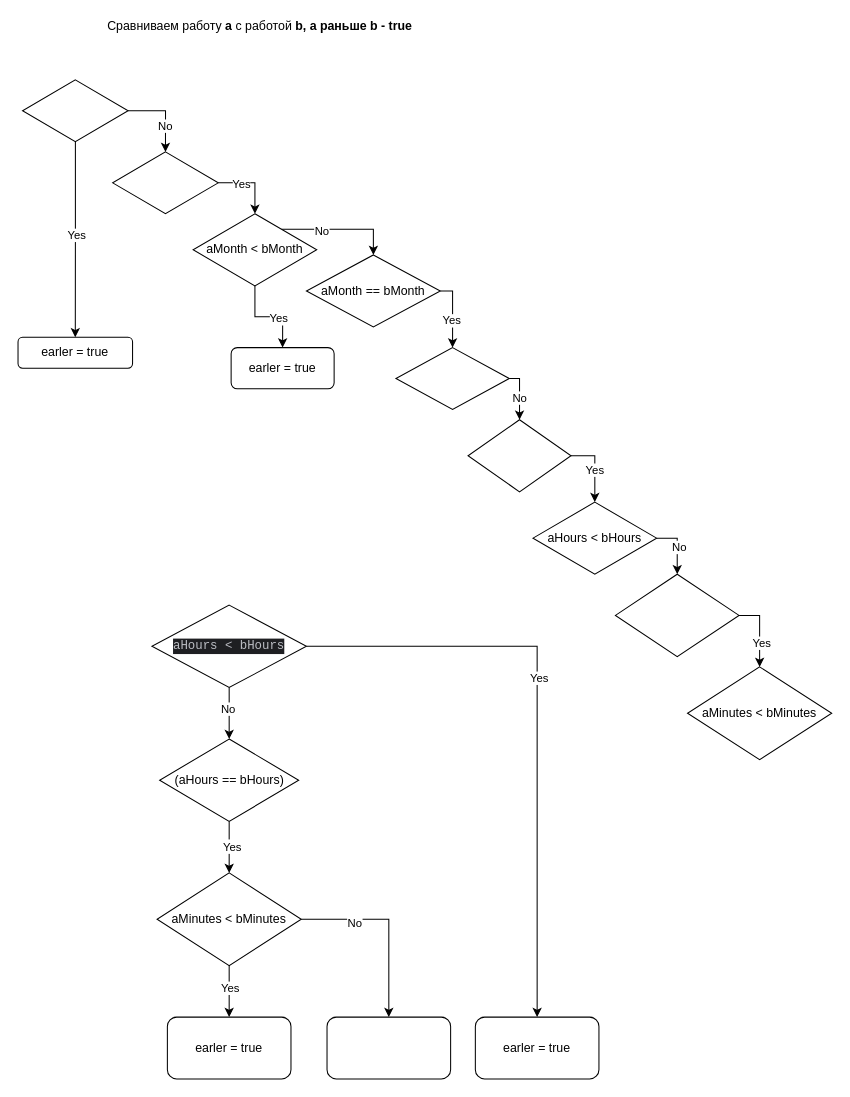
This 850x1097 diagram has some shape labels left out. Here are the shapes that lost their labels. From the top down, the centre of each, then its label:
the point at 75,110: aYear < bYear
the point at 165,182: aYear == bYear
the point at 452,378: aDay < bDay
the point at 519,455: aDay == bDay
the point at 676,615: aHours == bHours
the point at 388,1047: earler = false
